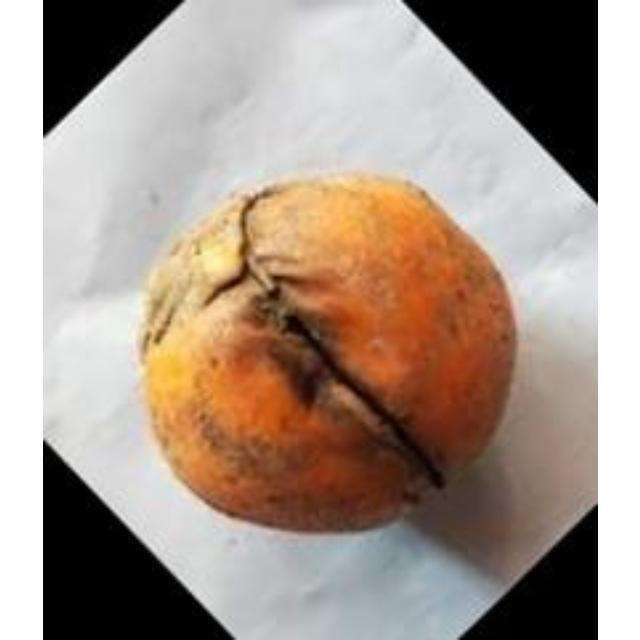damaged: (135, 173, 517, 536)
